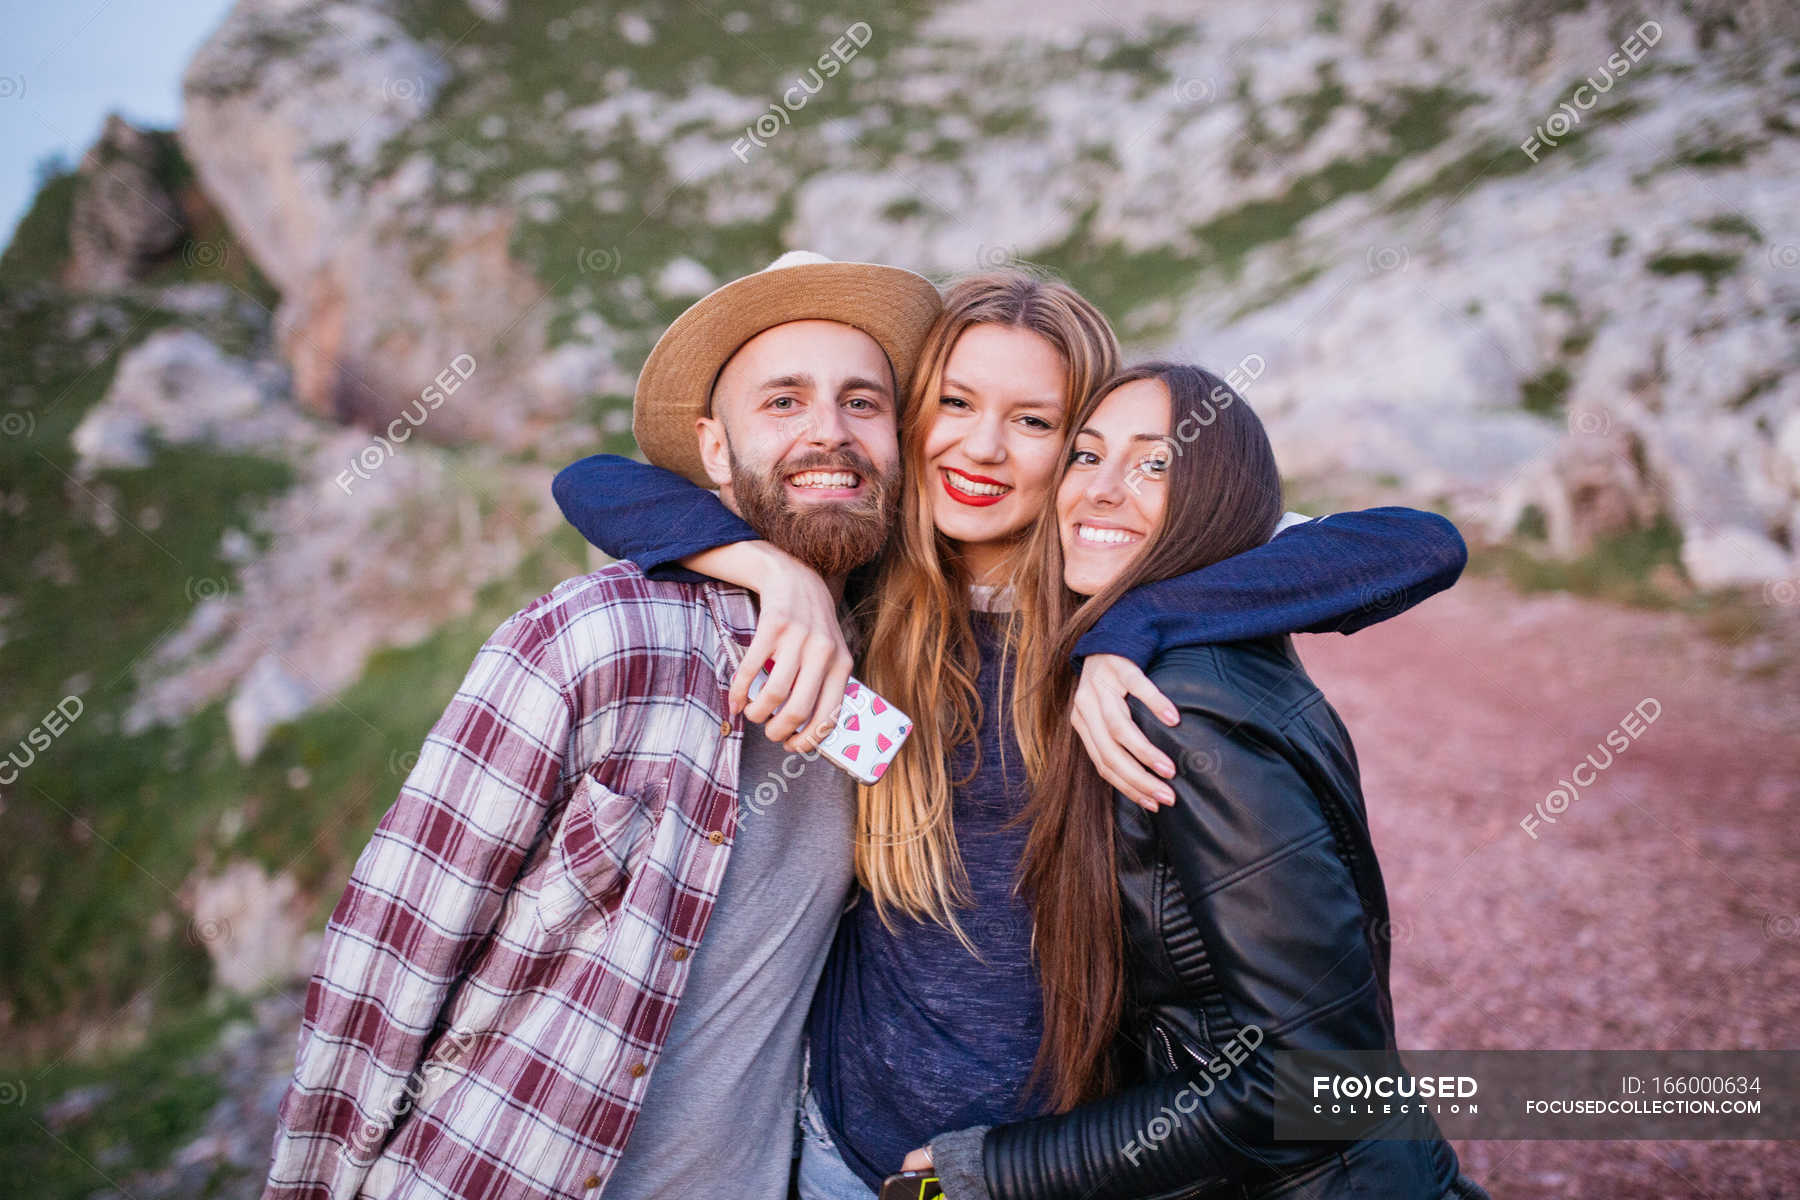bare: (713, 425, 907, 563), (916, 430, 1053, 542), (1052, 478, 1177, 598)
